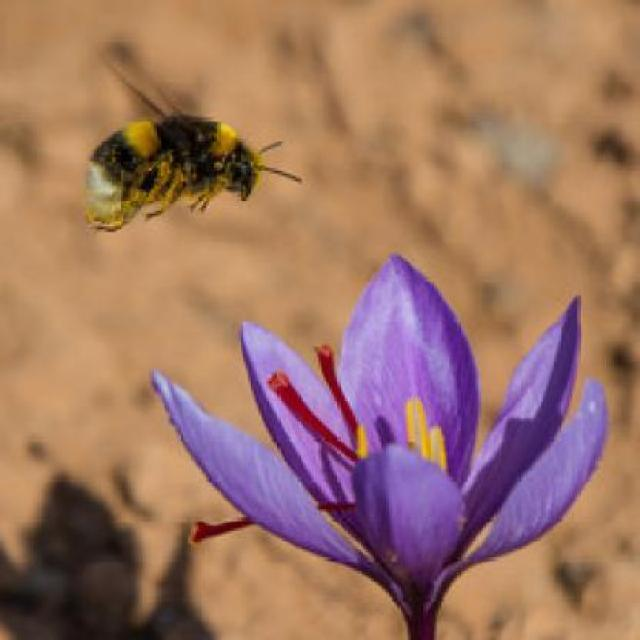saffron open: (194, 265, 605, 639)
